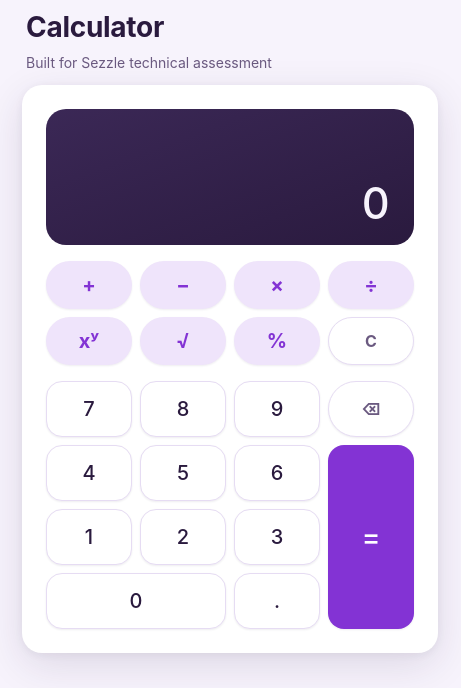
Test: App › shows a friendly message when the service is unreachable
Click the button "1".
click(89, 536)  # box [46,508,132,564]
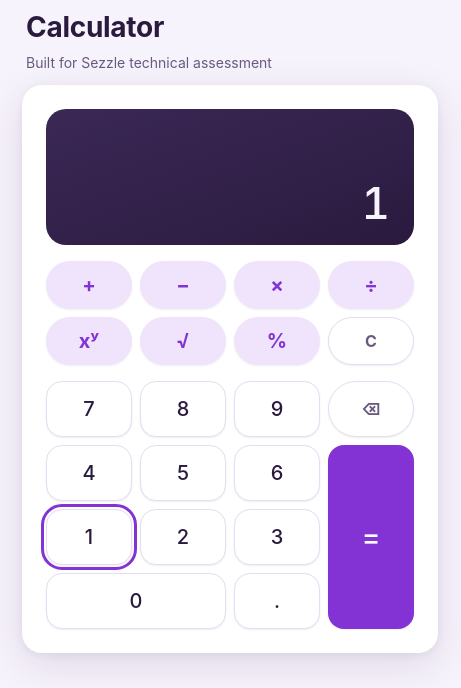
Click the button named "Add".
click(89, 284)  # box [46,260,132,308]
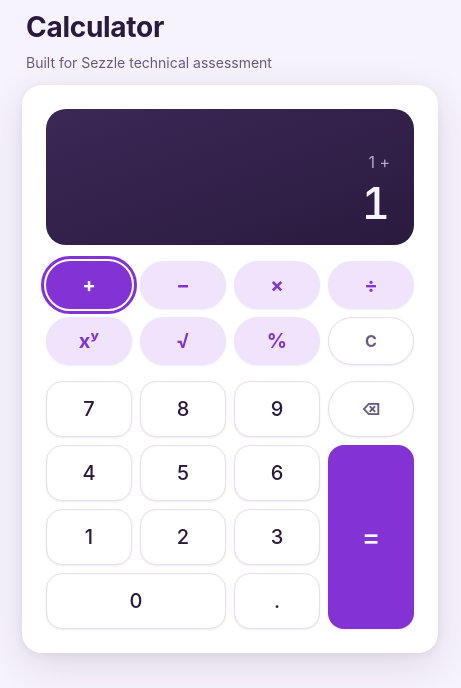
Click the button "1".
click(89, 536)  # box [46,508,132,564]
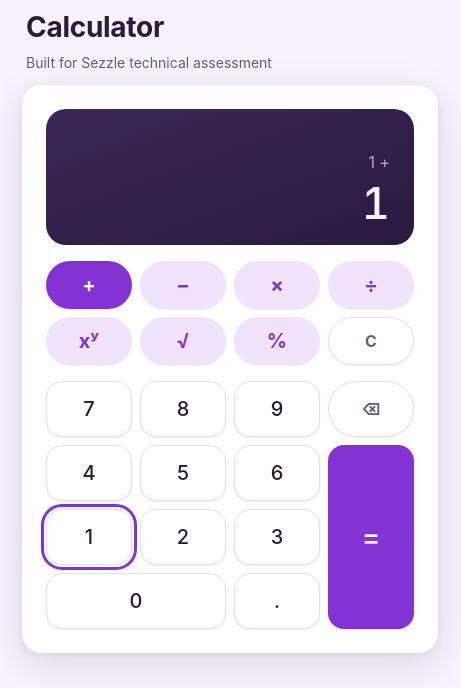
Click the button named "Equals".
click(371, 536)  # box [328,444,414,628]
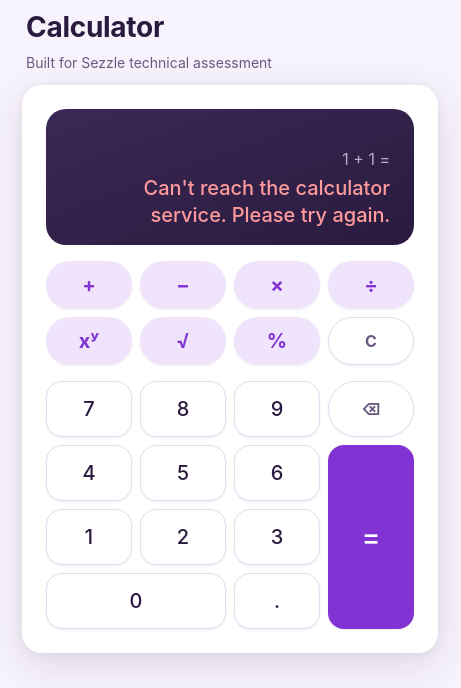
Expected: the text "Can't reach the calculator service. Please try again." is shown, [144,176,390,226]
